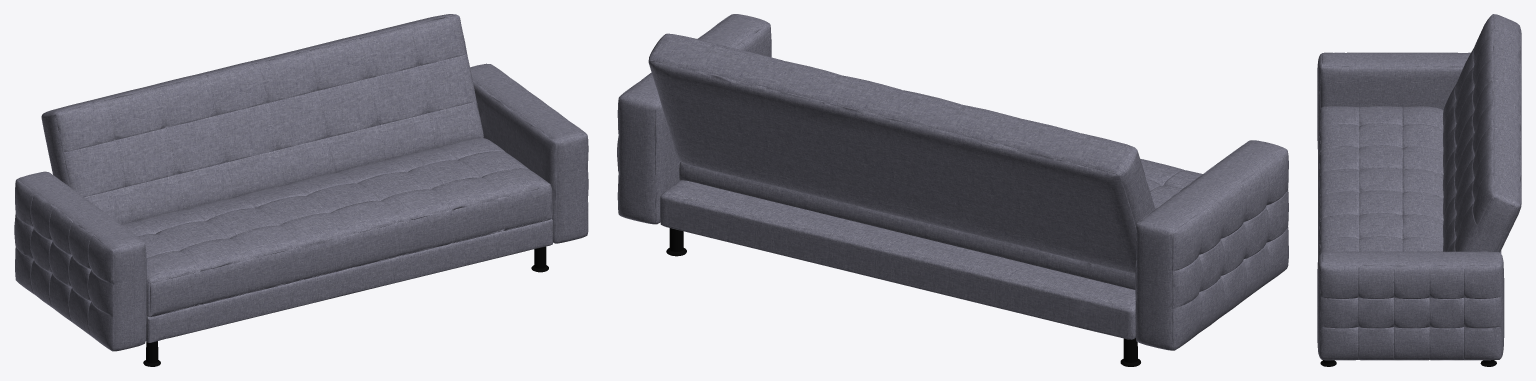
Rendered from WADL4451.obj.
3 views of the same model, side by side, from view 1: azimuth 30°, elevation 25°; view 2: azimuth 150°, elevation 25°; view 3: azimuth 270°, elevation 25° (orthographic). The views are drawn at different scales.
Parts seen in each view (by area): view 1: not_clear_obj_1_v6, not_clear_obj_0_v6; view 2: not_clear_obj_1_v6, not_clear_obj_0_v6; view 3: not_clear_obj_1_v6, not_clear_obj_0_v6.
Part boxes in pixels (x1=…): not_clear_obj_1_v6: x1=14, y1=14, x2=588, y2=351; not_clear_obj_0_v6: x1=143, y1=246, x2=548, y2=366; not_clear_obj_1_v6: x1=617, y1=14, x2=1288, y2=350; not_clear_obj_0_v6: x1=666, y1=228, x2=1140, y2=366; not_clear_obj_1_v6: x1=1317, y1=14, x2=1521, y2=360; not_clear_obj_0_v6: x1=1320, y1=360, x2=1496, y2=366.
Size of what is drawn, in the model's own units: 220 by 80.87 by 86.67.
